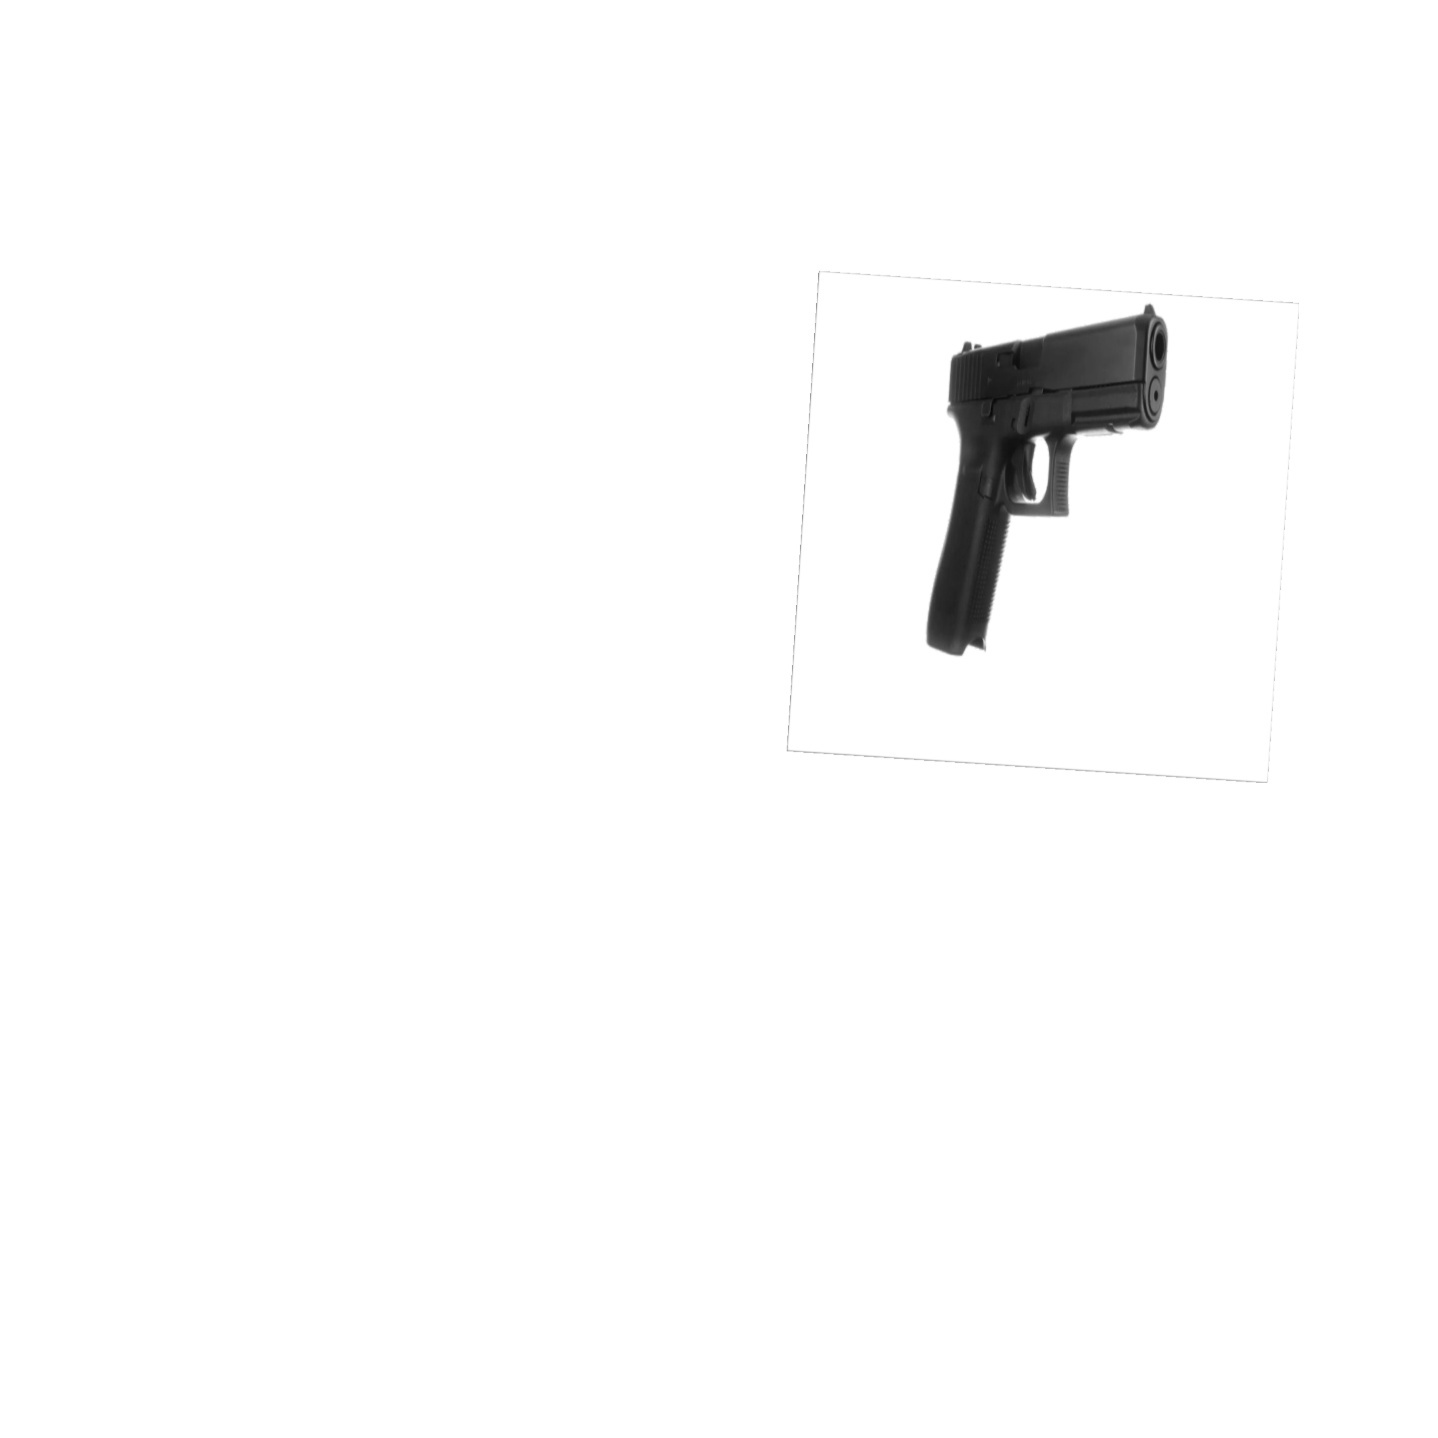gun: (923, 306, 1167, 662)
